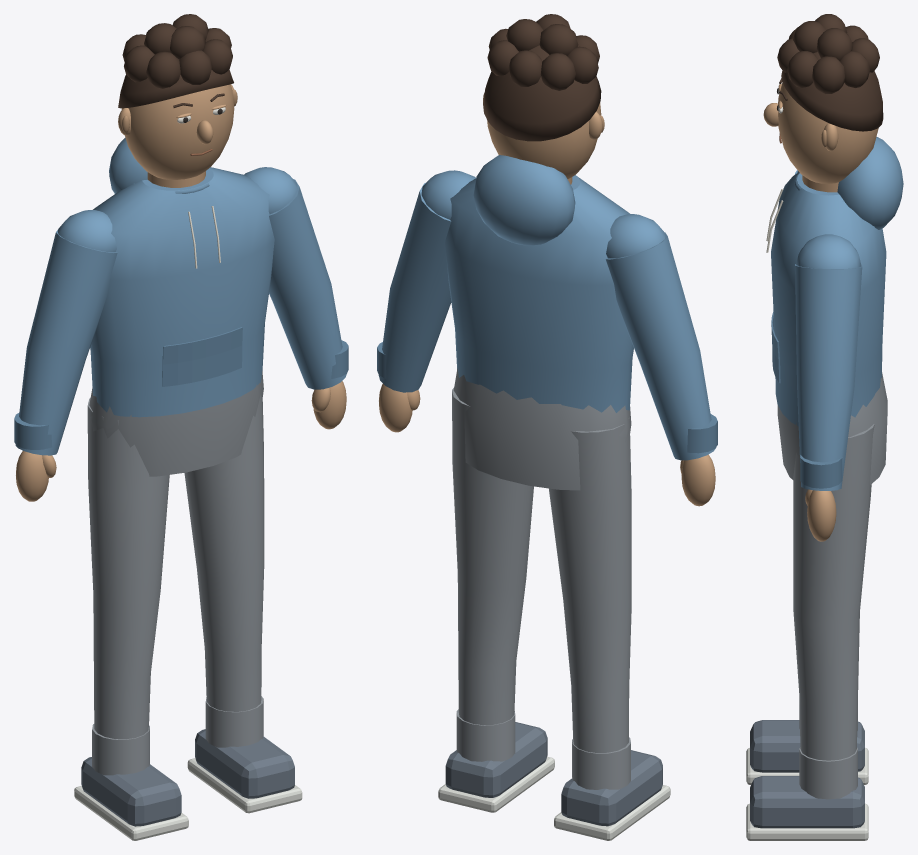
The model's file is person_curly_hair_hoodie.glb.
3 renders of one model, left to right at view 1: azimuth 30°, elevation 25°; view 2: azimuth 150°, elevation 25°; view 3: azimuth 270°, elevation 25°, orthographic.
Visible parts, largest first — view 1: Hoodie_Adult_Torso_And_Main_Clothes, Hoodie_Adult_Trouser_Leg, Hoodie_Adult_Trouser_Leg.001, Hoodie_Adult_Long_Sleeve, Hoodie_Adult_Long_Sleeve.001, Hoodie_Adult_Connected_Hip_Garment, Hoodie_Adult_Head, Hoodie_Adult_Shoe_Upper, Hoodie_Adult_Shoe_Upper.001, Hoodie_Adult_Kangaroo_Pocket, Hoodie_Adult_Jogger_Ankle_Cuff.001, Hoodie_Adult_Jogger_Ankle_Cuff (+15 smaller); view 2: Hoodie_Adult_Torso_And_Main_Clothes, Hoodie_Adult_Trouser_Leg, Hoodie_Adult_Trouser_Leg.001, Hoodie_Adult_Long_Sleeve, Hoodie_Adult_Connected_Hip_Garment, Hoodie_Adult_Long_Sleeve.001, Hoodie_Adult_Lowered_Hood, Hoodie_Adult_Hair_Cap, Hoodie_Adult_Shoe_Upper.001, Hoodie_Adult_Shoe_Upper, Hoodie_Adult_Head, Hoodie_Adult_Jogger_Ankle_Cuff.001 (+14 smaller); view 3: Hoodie_Adult_Trouser_Leg.001, Hoodie_Adult_Torso_And_Main_Clothes, Hoodie_Adult_Long_Sleeve.001, Hoodie_Adult_Shoe_Upper.001, Hoodie_Adult_Head, Hoodie_Adult_Lowered_Hood, Hoodie_Adult_Hair_Cap, Hoodie_Adult_Shoe_Upper, Hoodie_Adult_Connected_Hip_Garment, Hoodie_Adult_Jogger_Ankle_Cuff.001, Hoodie_Adult_Shoe_Sole.001, Hoodie_Adult_Rounded_Shoulder_Cloth.001 (+13 smaller).
Part boxes in pixels (box(x1,y1,x2,y2)): Hoodie_Adult_Torso_And_Main_Clothes: box(90, 167, 274, 417); Hoodie_Adult_Trouser_Leg: box(87, 398, 169, 739); Hoodie_Adult_Trouser_Leg.001: box(184, 385, 264, 711); Hoodie_Adult_Long_Sleeve: box(15, 230, 117, 455); Hoodie_Adult_Long_Sleeve.001: box(269, 179, 346, 389); Hoodie_Adult_Connected_Hip_Garment: box(89, 371, 263, 476); Hoodie_Adult_Head: box(121, 84, 234, 179); Hoodie_Adult_Shoe_Upper: box(81, 757, 181, 826); Hoodie_Adult_Shoe_Upper.001: box(195, 729, 294, 798); Hoodie_Adult_Kangaroo_Pocket: box(162, 327, 242, 386); Hoodie_Adult_Jogger_Ankle_Cuff.001: box(205, 696, 263, 747); Hoodie_Adult_Jogger_Ankle_Cuff: box(92, 724, 149, 775); Hoodie_Adult_Torso_And_Main_Clothes: box(445, 175, 633, 412); Hoodie_Adult_Trouser_Leg: box(549, 418, 631, 752); Hoodie_Adult_Trouser_Leg.001: box(452, 387, 533, 725); Hoodie_Adult_Long_Sleeve: box(605, 232, 716, 460); Hoodie_Adult_Connected_Hip_Garment: box(453, 368, 631, 490); Hoodie_Adult_Long_Sleeve.001: box(378, 183, 451, 392); Hoodie_Adult_Lowered_Hood: box(473, 155, 575, 245); Hoodie_Adult_Hair_Cap: box(483, 45, 601, 141); Hoodie_Adult_Shoe_Upper.001: box(445, 722, 547, 797); Hoodie_Adult_Shoe_Upper: box(561, 750, 662, 826); Hoodie_Adult_Head: box(487, 102, 601, 178); Hoodie_Adult_Jogger_Ankle_Cuff.001: box(456, 709, 515, 761); Hoodie_Adult_Trouser_Leg.001: box(793, 423, 874, 760); Hoodie_Adult_Torso_And_Main_Clothes: box(771, 172, 886, 426); Hoodie_Adult_Long_Sleeve.001: box(795, 264, 862, 490); Hoodie_Adult_Shoe_Upper.001: box(750, 776, 864, 828); Hoodie_Adult_Head: box(778, 82, 878, 183); Hoodie_Adult_Lowered_Hood: box(837, 137, 903, 229); Hoodie_Adult_Hair_Cap: box(781, 52, 883, 131); Hoodie_Adult_Shoe_Upper: box(750, 720, 864, 772); Hoodie_Adult_Connected_Hip_Garment: box(777, 372, 887, 484); Hoodie_Adult_Jogger_Ankle_Cuff.001: box(799, 747, 857, 799); Hoodie_Adult_Shoe_Sole.001: box(746, 803, 868, 840); Hoodie_Adult_Rounded_Shoulder_Cloth.001: box(796, 234, 861, 268).
Bounding box in the file's own units: 0.8132 × 1.82 × 0.3335.
